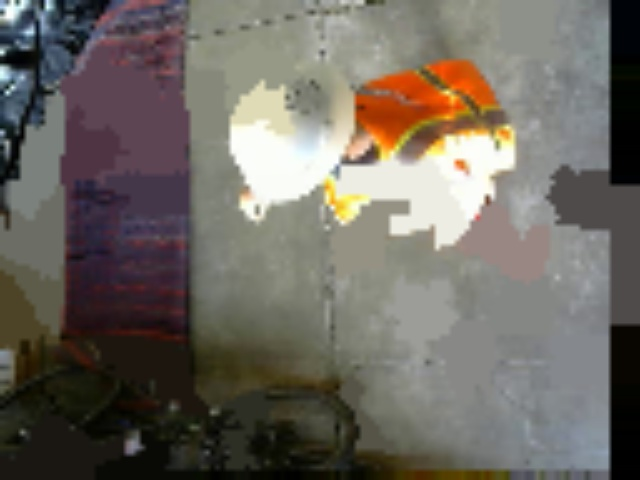eight: (271, 73, 319, 114)
